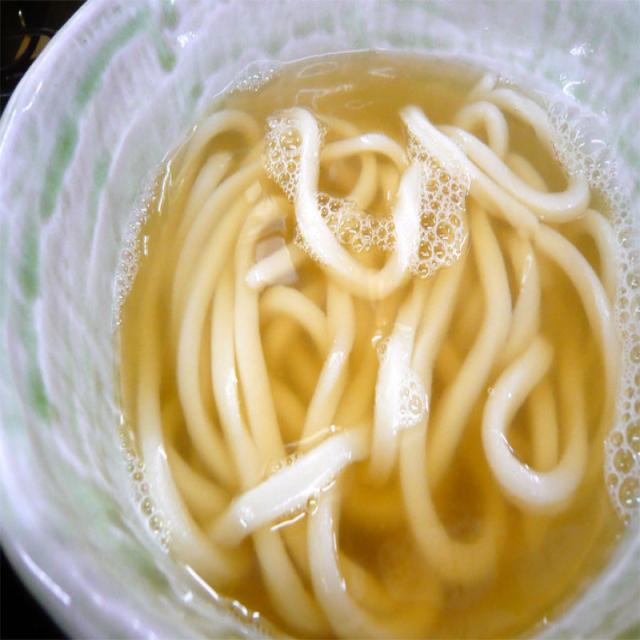面条主食: (46, 0, 640, 640)
